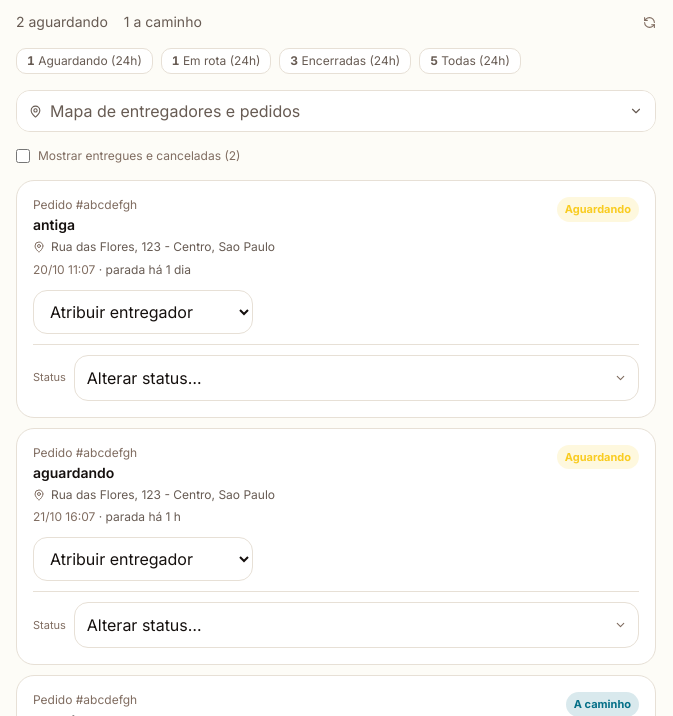
Test: DeliveriesTab — filtros das últimas 24 horas › contagens e filtros exibem os mesmos estados e limitam-se às últimas 24 horas
The width and height of the screenshot is (673, 716).
Step 1. Click the button with test id "delivery-filter-completed" → point(345, 61), box [279,48,411,74]
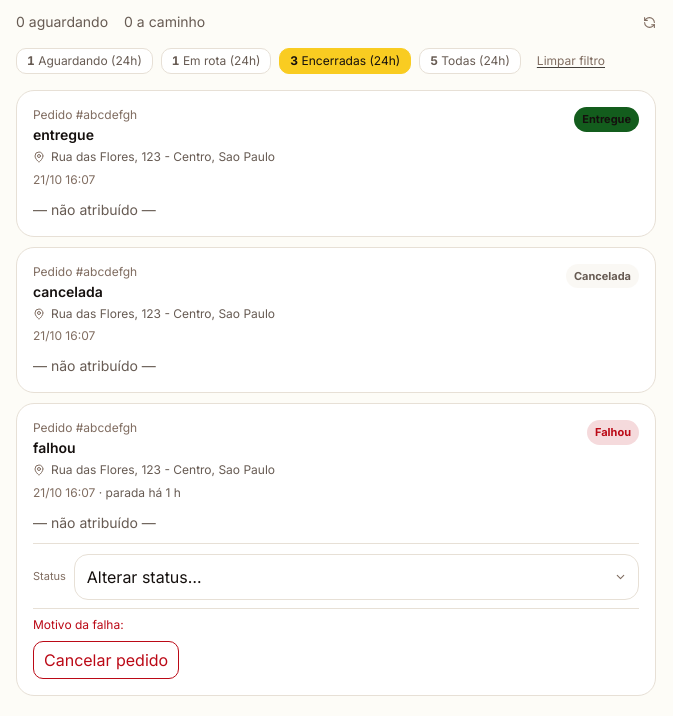
Expected: the number of buttons with test id "delivery-card" is 3, [16,90,656,236]; [16,246,656,393]; [16,403,656,696]
Expected: the button "antiga" is gone
Step 2. Click the button with test id "clear-delivery-filter" → point(571, 61), box [529,49,613,73]
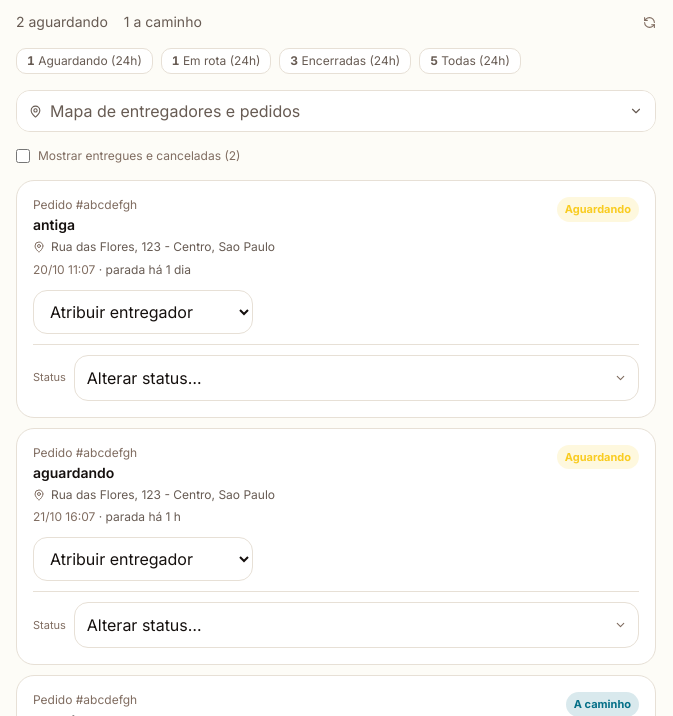
Step 3. Click the button with test id "delivery-filter-last24" → point(470, 61), box [419,48,521,74]
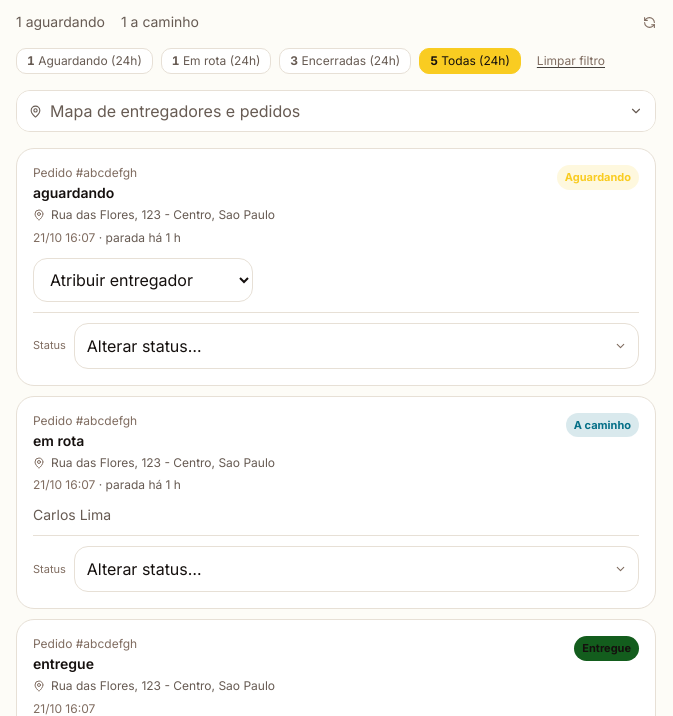
Expected: the number of buttons with test id "delivery-card" is 5
Expected: the button "antiga" is gone
